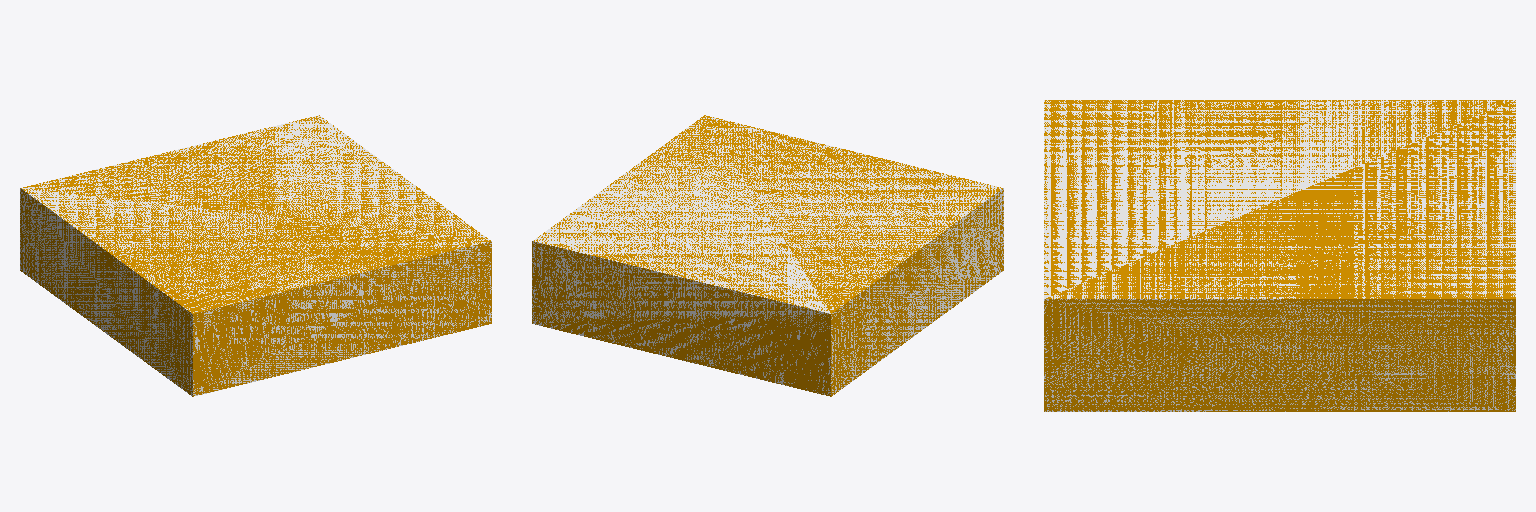
robot.urdf — my_object:
<?xml version="1.0" ?> 
<robot name="my_object" static="true">
  <link name="base_link">
  <inertial>
    <mass value="0.200" />
    <origin xyz="0 0 0.0" />
    <inertia ixx="1.0" ixy="0.0" ixz="0.0" iyy="1.0" iyz="0.0" izz="1.0"/>
  </inertial>
  <visual>
   <origin xyz="0 0 0.0" rpy="0 0 0" />
   <geometry>
     <mesh filename="package://cob_gazebo_objects/Media/models/styroprene.dae"/>
   </geometry>
  </visual>
  <collision>
   <origin xyz="0 0 0.04" rpy="0 0 0" />
   <geometry>
     <box size="0.30 0.30 0.08" />
   </geometry>
  </collision>     
  </link>

<gazebo reference="base_link">
  <mu1>1.0</mu1>
  <mu2>1.0</mu2>
  <kp>1000000.0</kp>
  <kd>1.0</kd>
</gazebo>

<gazebo>
	<static>false</static>
</gazebo>
</robot>

--- Facts derived from the render (not from the file) ---
3 views of the same robot in one strip: view 1: azimuth 30°, elevation 25°; view 2: azimuth 150°, elevation 25°; view 3: azimuth 270°, elevation 25° (orthographic).
Model my_object with 1 links and 0 joints (none), rooted at base_link, posed all joints at 0.
Visible links, largest first — view 1: base_link; view 2: base_link; view 3: base_link.
Boxes of the visible links, x1=… form: base_link: x1=20, y1=115, x2=491, y2=396; base_link: x1=532, y1=115, x2=1003, y2=396; base_link: x1=1044, y1=100, x2=1515, y2=411.
Size in the robot's own frame: 0.0076 by 0.0076 by 0.002 metres.
Meshes: 1 distinct files referenced, 1 mesh visuals loaded (1 Collada DAE).